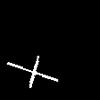single_crochet: (7, 56, 57, 87)
